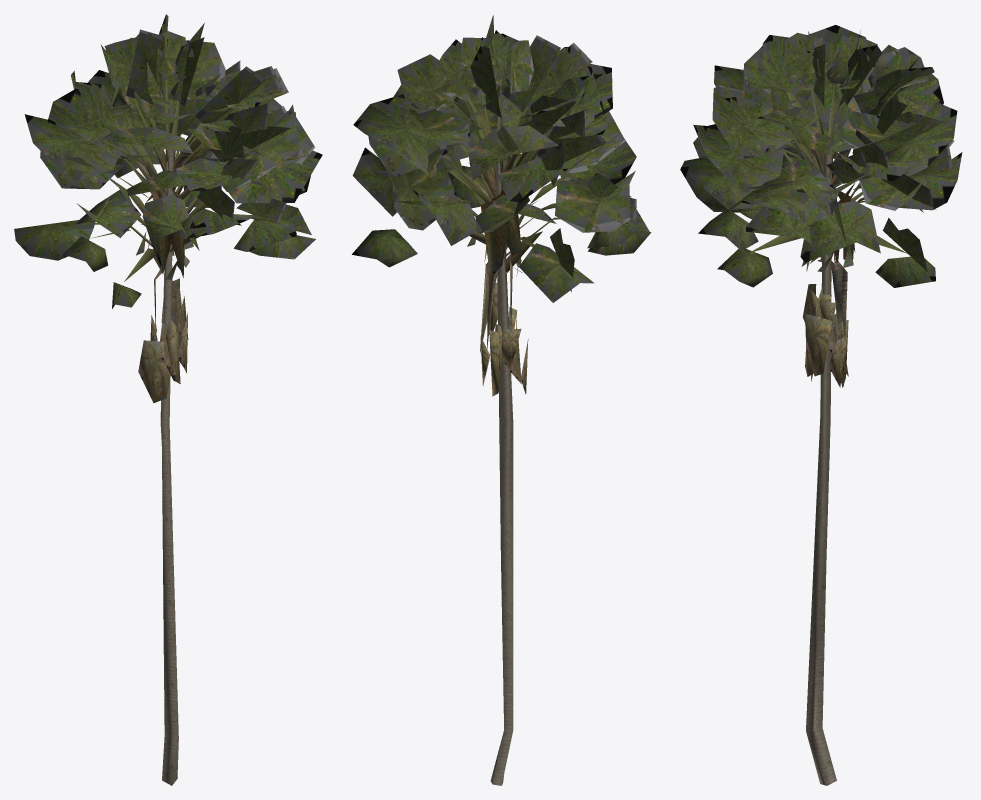
The model's file is jungle-mauritia-l-map.glb.
3 views of the same model, side by side, from view 1: azimuth 30°, elevation 25°; view 2: azimuth 150°, elevation 25°; view 3: azimuth 270°, elevation 25° (orthographic).
Visible parts, largest first — view 1: LOD1; view 2: LOD1; view 3: LOD1.
Part boxes in pixels (x1,y1,x2,y2): LOD1: [14, 14, 322, 785]; LOD1: [352, 15, 651, 785]; LOD1: [680, 25, 962, 785].
Bounding box in the file's own units: 12.74 × 35.78 × 12.24.
2 materials, 2 textured.
